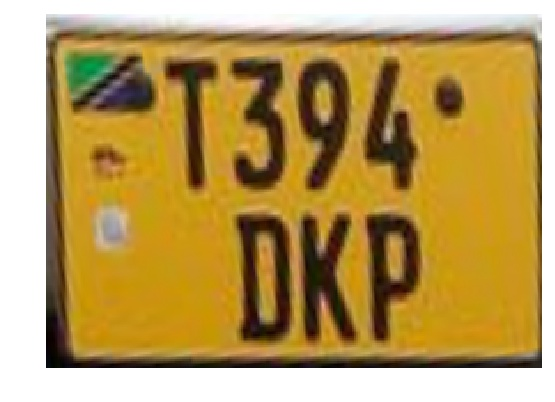T: (154, 50, 228, 197)
